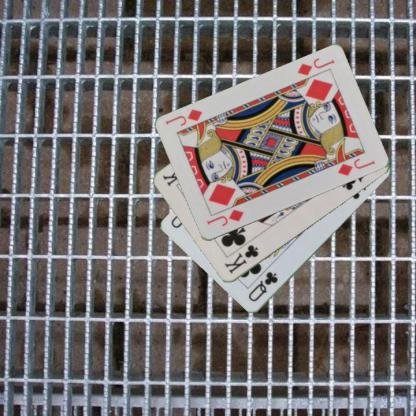Jd: (203, 207, 245, 228), (294, 56, 336, 77)
Kc: (221, 242, 260, 275)
Qc: (246, 270, 280, 304)
